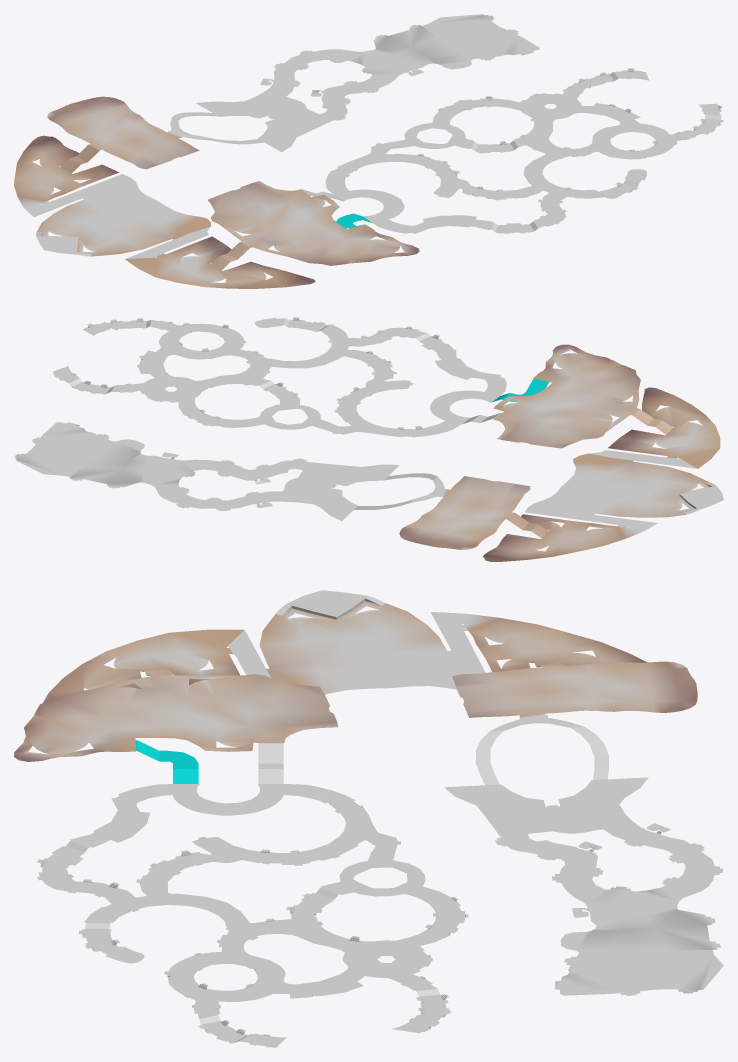
File: col_street_ouest_id's.max.fbx
The picture shows the model from 3 angles, top to bottom: view 1: azimuth 30°, elevation 25°; view 2: azimuth 150°, elevation 25°; view 3: azimuth 270°, elevation 25°; orthographic projection. The views are drawn at different scales.
Visible parts, largest first — view 1: col99, col100, col74, col77, col90, col89, col75, col22, col94, col76, col91, col58 (+50 smaller); view 2: col99, col100, col74, col77, col90, col89, col75, col22, col94, col76, col91, col58 (+53 smaller); view 3: col99, col100, col74, col77, col90, col89, col75, col22, col94, col76, col58, col91 (+54 smaller).
Boxes of the visible parts, x1=… form: col99: x1=54, y1=191, x2=164, y2=230; col100: x1=102, y1=206, x2=210, y2=249; col74: x1=422, y1=14, x2=506, y2=51; col77: x1=380, y1=37, x2=471, y2=76; col90: x1=47, y1=96, x2=133, y2=132; col89: x1=91, y1=125, x2=182, y2=158; col75: x1=459, y1=29, x2=539, y2=60; col22: x1=520, y1=93, x2=581, y2=119; col94: x1=14, y1=152, x2=72, y2=187; col76: x1=365, y1=24, x2=436, y2=61; col91: x1=67, y1=112, x2=152, y2=143; col58: x1=308, y1=239, x2=381, y2=265; col99: x1=551, y1=481, x2=650, y2=517; col100: x1=568, y1=453, x2=669, y2=491; col74: x1=14, y1=443, x2=103, y2=476; col77: x1=86, y1=439, x2=178, y2=474; col90: x1=399, y1=519, x2=493, y2=549; col89: x1=437, y1=489, x2=520, y2=519; col75: x1=32, y1=422, x2=116, y2=450; col22: x1=140, y1=375, x2=206, y2=402; col94: x1=523, y1=530, x2=593, y2=559; col76: x1=69, y1=465, x2=164, y2=488; col91: x1=419, y1=505, x2=504, y2=533; col58: x1=574, y1=355, x2=640, y2=386; col99: x1=344, y1=625, x2=447, y2=688; col100: x1=259, y1=638, x2=371, y2=694; col74: x1=611, y1=950, x2=723, y2=993; col77: x1=560, y1=902, x2=668, y2=950; col90: x1=616, y1=661, x2=697, y2=712; col89: x1=499, y1=666, x2=574, y2=718; col75: x1=555, y1=950, x2=640, y2=995; col22: x1=342, y1=940, x2=432, y2=978; col94: x1=513, y1=629, x2=627, y2=662; col76: x1=639, y1=902, x2=720, y2=949; col58: x1=24, y1=694, x2=107, y2=735; col91: x1=565, y1=661, x2=626, y2=711.
Bounding box in the file's own units: 365 × 8.21 × 241.
